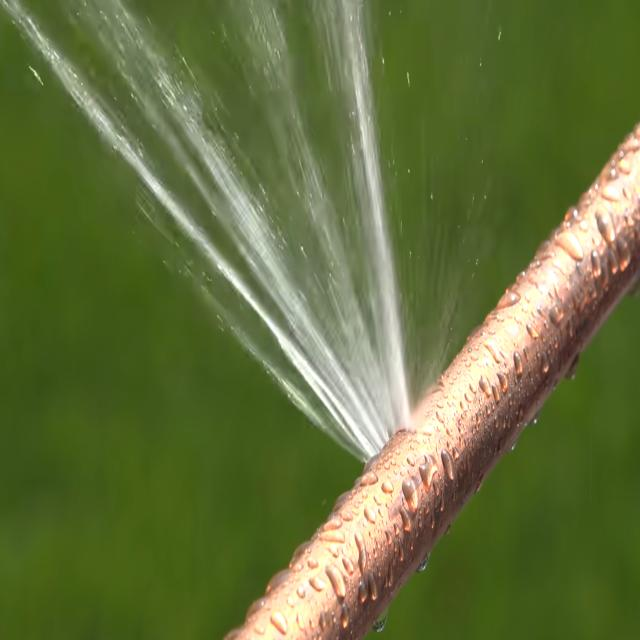leak: (0, 0, 418, 466)
